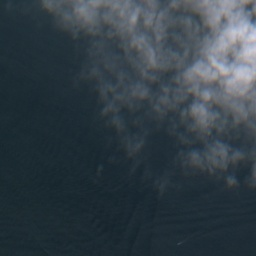Ship: (178, 240, 185, 245)
